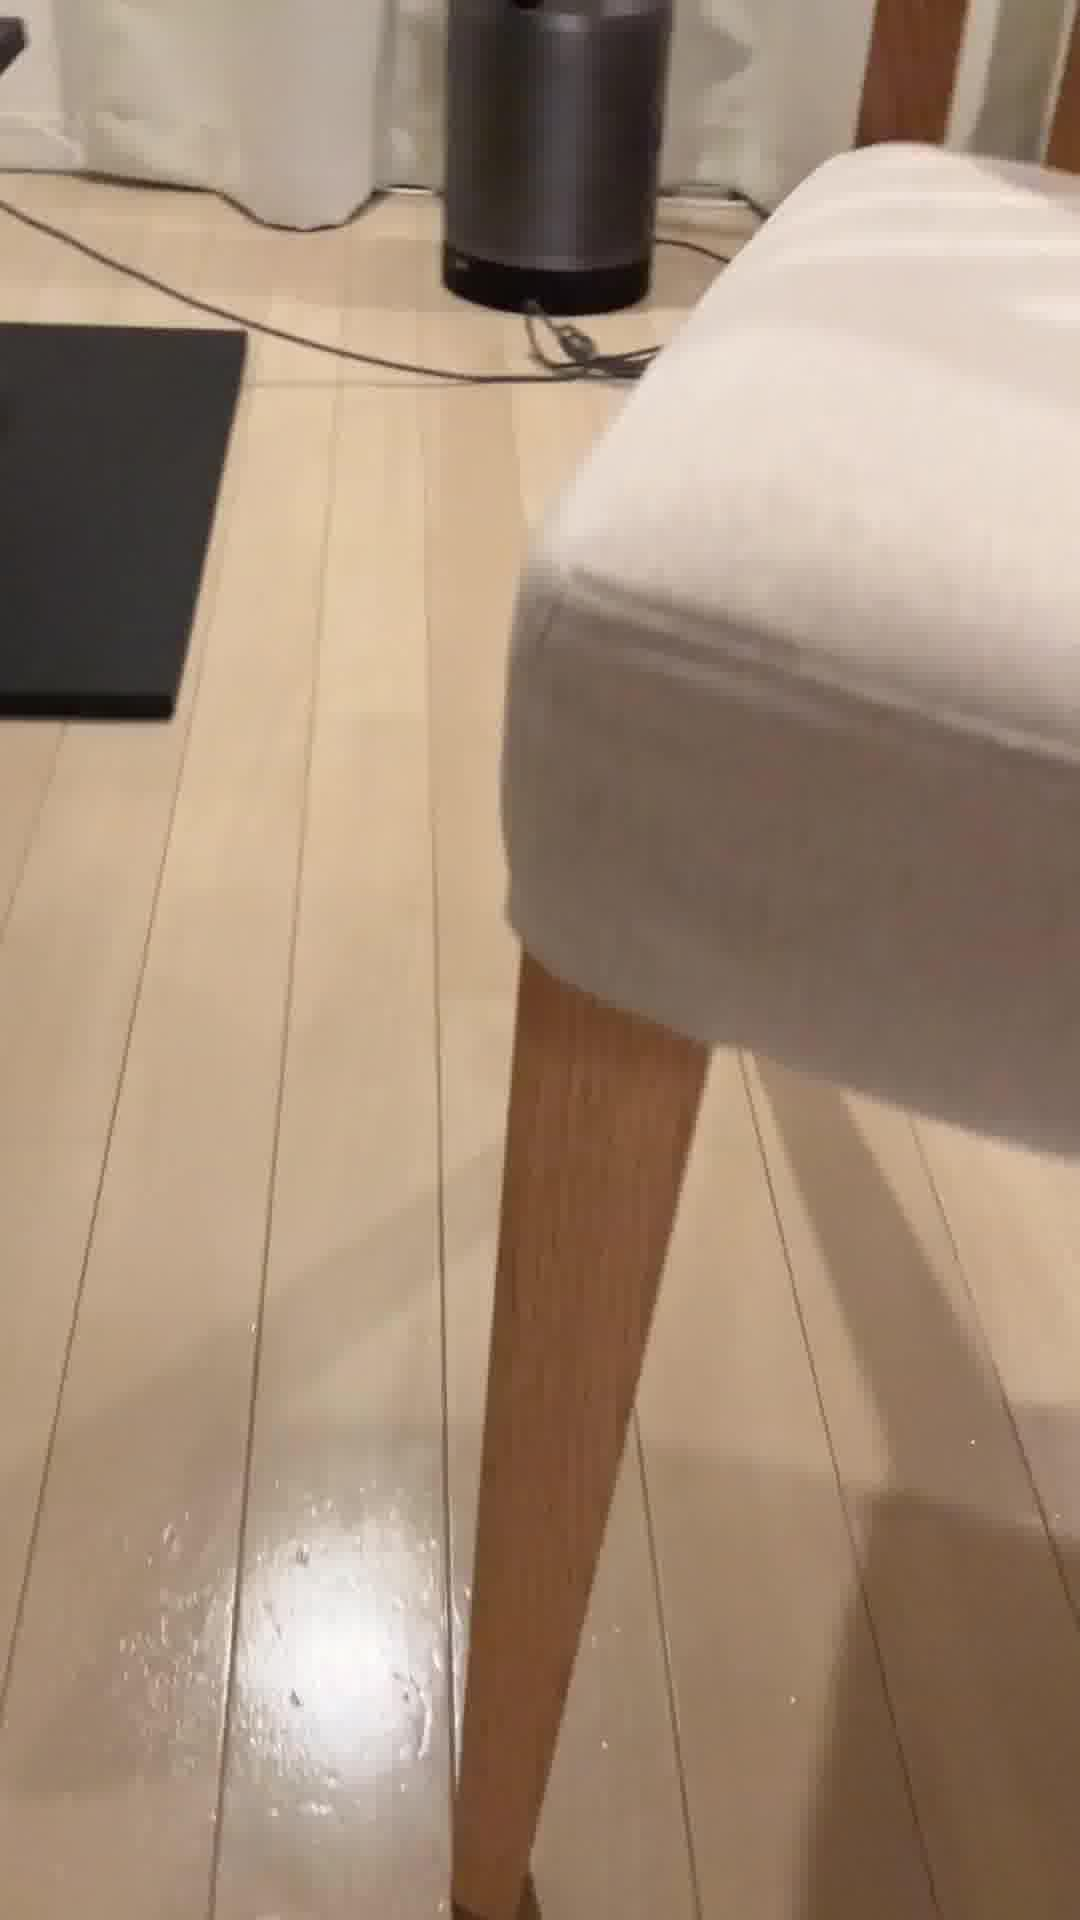takumikan-chair: (444, 0, 1080, 1920)
